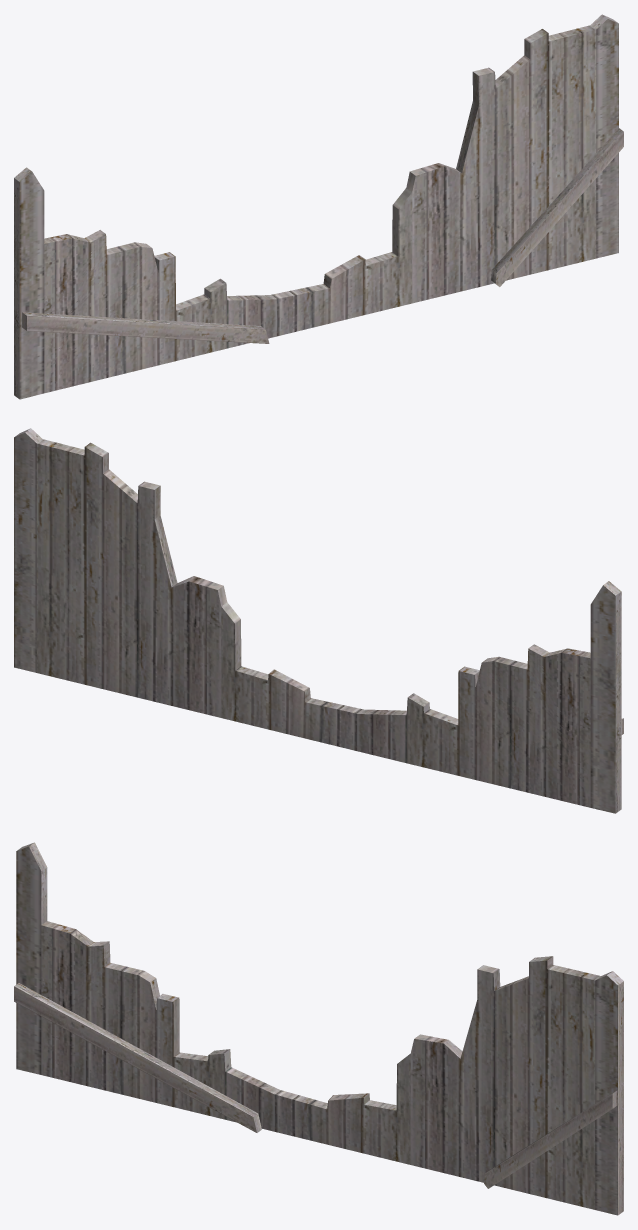
The model's file is Prop_Railings5d.glb.
3 renders of one model, top to bottom at view 1: azimuth 30°, elevation 25°; view 2: azimuth 150°, elevation 25°; view 3: azimuth 330°, elevation 25°, orthographic.
Parts seen in each view (by area): view 1: xiutz_railings5d; view 2: xiutz_railings5d; view 3: xiutz_railings5d.
Boxes of the visible parts, <box> form: xiutz_railings5d: <box>14,14,623,399</box>; xiutz_railings5d: <box>14,428,623,813</box>; xiutz_railings5d: <box>14,842,623,1215</box>.
Bounding box in the file's own units: 5.78 × 2.19 × 0.1878.
Materials: 1 (1 with a texture image).
